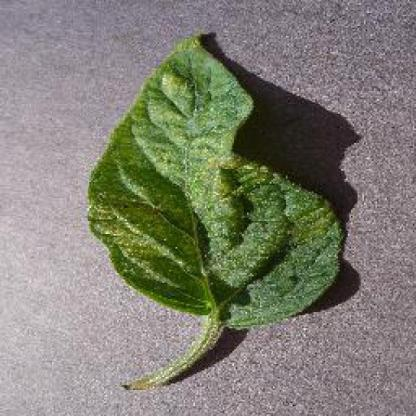Tomato_Spider_Mites: (87, 36, 342, 316)
